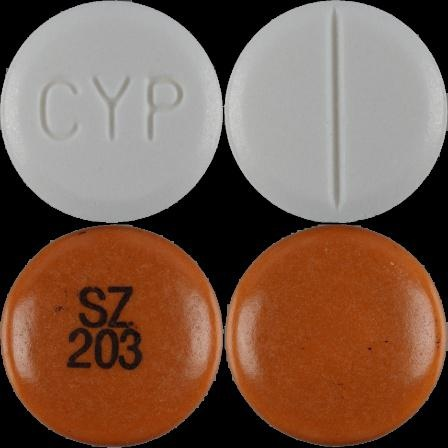51991-838: (0, 0, 224, 224)
